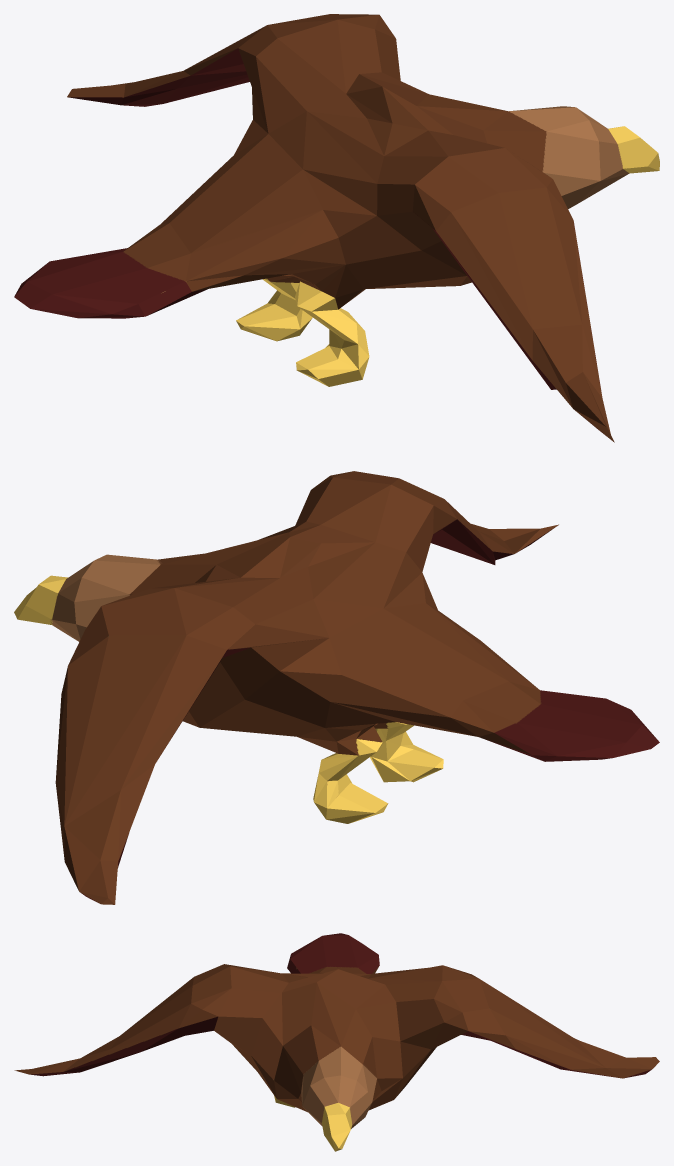
Rendered from aguila.obj.
3 views of the same model, one above another, from view 1: azimuth 30°, elevation 25°; view 2: azimuth 150°, elevation 25°; view 3: azimuth 270°, elevation 25° (orthographic). The views are drawn at different scales.
Visible parts, largest first — view 1: aguila.001_Cube.001; view 2: aguila.001_Cube.001; view 3: aguila.001_Cube.001.
Boxes of the visible parts, box(x1,y1,x2,y2) form: aguila.001_Cube.001: box(14, 14, 659, 442); aguila.001_Cube.001: box(14, 471, 659, 904); aguila.001_Cube.001: box(14, 933, 659, 1151).
Bounding box in the file's own units: 67.81 × 25.08 × 91.57.
Materials: 1 (1 with a texture image).
